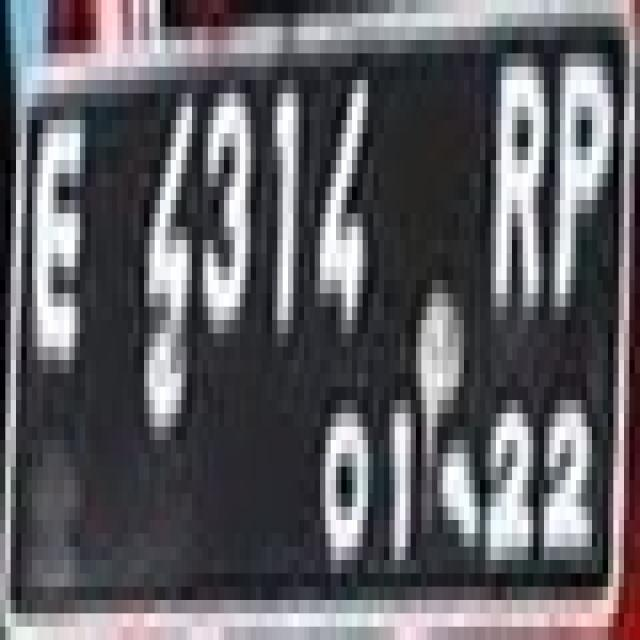plate: (5, 0, 619, 627)
